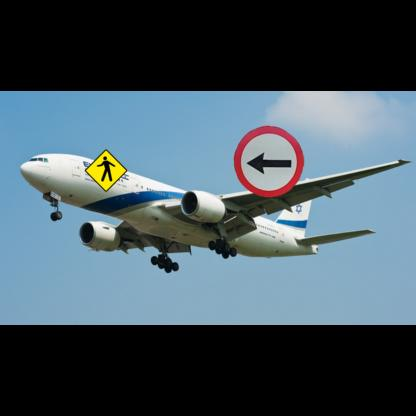A-32a: (84, 149, 127, 192)
R-24a: (234, 126, 304, 197)
